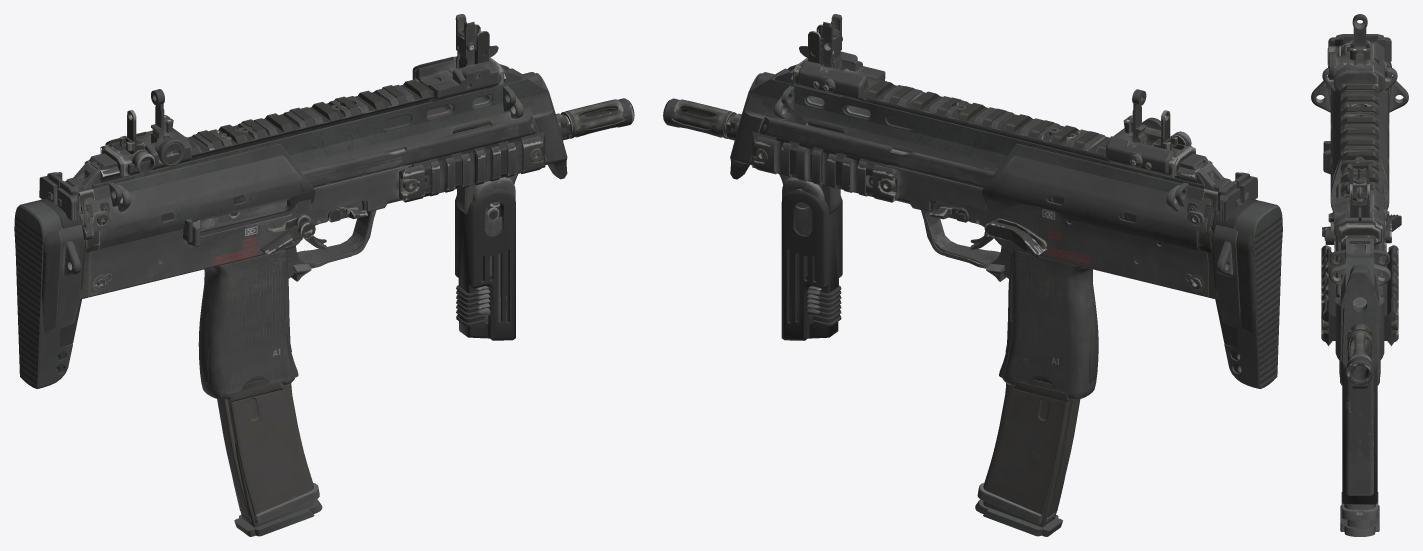
3 views of the same model, side by side, from view 1: azimuth 30°, elevation 25°; view 2: azimuth 150°, elevation 25°; view 3: azimuth 270°, elevation 25° (orthographic).
Visible parts, largest first — view 1: weapon_smg_mp7.vmdl_c.body_hd, weapon_smg_mp7.vmdl_c.body_legacy; view 2: weapon_smg_mp7.vmdl_c.body_hd, weapon_smg_mp7.vmdl_c.body_legacy; view 3: weapon_smg_mp7.vmdl_c.body_hd, weapon_smg_mp7.vmdl_c.body_legacy.
Part boxes in pixels (box(x1,y1,x2,y2)): weapon_smg_mp7.vmdl_c.body_hd: box(14, 14, 634, 524); weapon_smg_mp7.vmdl_c.body_legacy: box(14, 24, 624, 536); weapon_smg_mp7.vmdl_c.body_hd: box(663, 14, 1282, 524); weapon_smg_mp7.vmdl_c.body_legacy: box(673, 24, 1282, 536); weapon_smg_mp7.vmdl_c.body_hd: box(1311, 14, 1408, 520); weapon_smg_mp7.vmdl_c.body_legacy: box(1323, 18, 1396, 536).
Bounding box in the file's own units: 15.96 × 11.75 × 2.29.
Materials: 2 (2 with a texture image).
